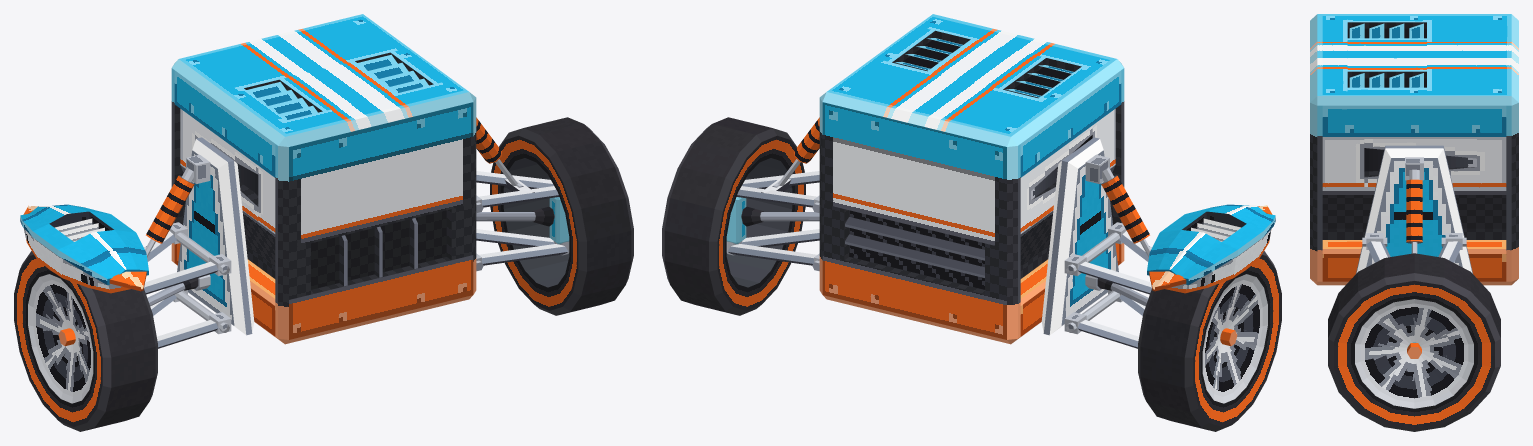
File: aero_e_rig2.glb
3 renders of one model, left to right at view 1: azimuth 30°, elevation 25°; view 2: azimuth 150°, elevation 25°; view 3: azimuth 270°, elevation 25°, orthographic. The views are drawn at different scales.
Visible parts, largest first — view 1: aero_b_block_0_aero_b_block_body, aero_e_wheel_1_aero_e_wheel_tyre, aero_wheel_2_aero_wheel_tyre, aero_e_wheel_1_aero_e_wheel_mount, aero_e_wheel_1_aero_e_wheel_fender, aero_wheel_2_aero_wheel_arm_lo, aero_wheel_2_aero_wheel_arm_up, aero_e_wheel_1_aero_e_wheel_arm_up, aero_e_wheel_1_aero_e_wheel_arm_lo, aero_e_wheel_1_aero_e_wheel_dmp_body, aero_wheel_2_aero_wheel_shaft, aero_wheel_2_aero_wheel_knuckle (+1 smaller); view 2: aero_b_block_0_aero_b_block_body, aero_e_wheel_1_aero_e_wheel_tyre, aero_wheel_2_aero_wheel_tyre, aero_e_wheel_1_aero_e_wheel_mount, aero_e_wheel_1_aero_e_wheel_fender, aero_wheel_2_aero_wheel_arm_lo, aero_wheel_2_aero_wheel_arm_up, aero_e_wheel_1_aero_e_wheel_arm_up, aero_e_wheel_1_aero_e_wheel_arm_lo, aero_e_wheel_1_aero_e_wheel_dmp_body, aero_wheel_2_aero_wheel_shaft, aero_wheel_2_aero_wheel_knuckle (+1 smaller); view 3: aero_b_block_0_aero_b_block_body, aero_wheel_2_aero_wheel_tyre, aero_wheel_2_aero_wheel_mount, aero_wheel_2_aero_wheel_dmp_body, aero_wheel_2_aero_wheel_arm_up.
Part boxes in pixels (box(x1,y1,x2,y2)): aero_b_block_0_aero_b_block_body: box(171, 14, 476, 344); aero_e_wheel_1_aero_e_wheel_tyre: box(14, 251, 157, 431); aero_wheel_2_aero_wheel_tyre: box(490, 117, 633, 315); aero_e_wheel_1_aero_e_wheel_mount: box(166, 137, 254, 335); aero_e_wheel_1_aero_e_wheel_fender: box(20, 204, 148, 293); aero_wheel_2_aero_wheel_arm_lo: box(476, 229, 569, 270); aero_wheel_2_aero_wheel_arm_up: box(476, 171, 559, 212); aero_e_wheel_1_aero_e_wheel_arm_up: box(144, 231, 229, 294); aero_e_wheel_1_aero_e_wheel_arm_lo: box(150, 288, 229, 348); aero_e_wheel_1_aero_e_wheel_dmp_body: box(146, 167, 194, 243); aero_wheel_2_aero_wheel_shaft: box(476, 206, 554, 226); aero_wheel_2_aero_wheel_knuckle: box(549, 197, 569, 244); aero_b_block_0_aero_b_block_body: box(819, 14, 1124, 344); aero_e_wheel_1_aero_e_wheel_tyre: box(1138, 251, 1281, 431); aero_wheel_2_aero_wheel_tyre: box(662, 117, 805, 315); aero_e_wheel_1_aero_e_wheel_mount: box(1041, 137, 1129, 335); aero_e_wheel_1_aero_e_wheel_fender: box(1147, 204, 1275, 293); aero_wheel_2_aero_wheel_arm_lo: box(726, 229, 819, 270); aero_wheel_2_aero_wheel_arm_up: box(736, 171, 819, 212); aero_e_wheel_1_aero_e_wheel_arm_up: box(1066, 231, 1151, 294); aero_e_wheel_1_aero_e_wheel_arm_lo: box(1066, 288, 1145, 348); aero_e_wheel_1_aero_e_wheel_dmp_body: box(1101, 167, 1149, 243); aero_wheel_2_aero_wheel_shaft: box(741, 206, 819, 226); aero_wheel_2_aero_wheel_knuckle: box(726, 197, 746, 244); aero_b_block_0_aero_b_block_body: box(1310, 14, 1518, 285); aero_wheel_2_aero_wheel_tyre: box(1328, 253, 1500, 431); aero_wheel_2_aero_wheel_mount: box(1356, 145, 1472, 273); aero_wheel_2_aero_wheel_dmp_body: box(1406, 169, 1422, 243); aero_wheel_2_aero_wheel_arm_up: box(1362, 237, 1466, 262).
Bounding box in the file's own units: 2.75 × 1.38 × 1.
1 material, 1 textured.
